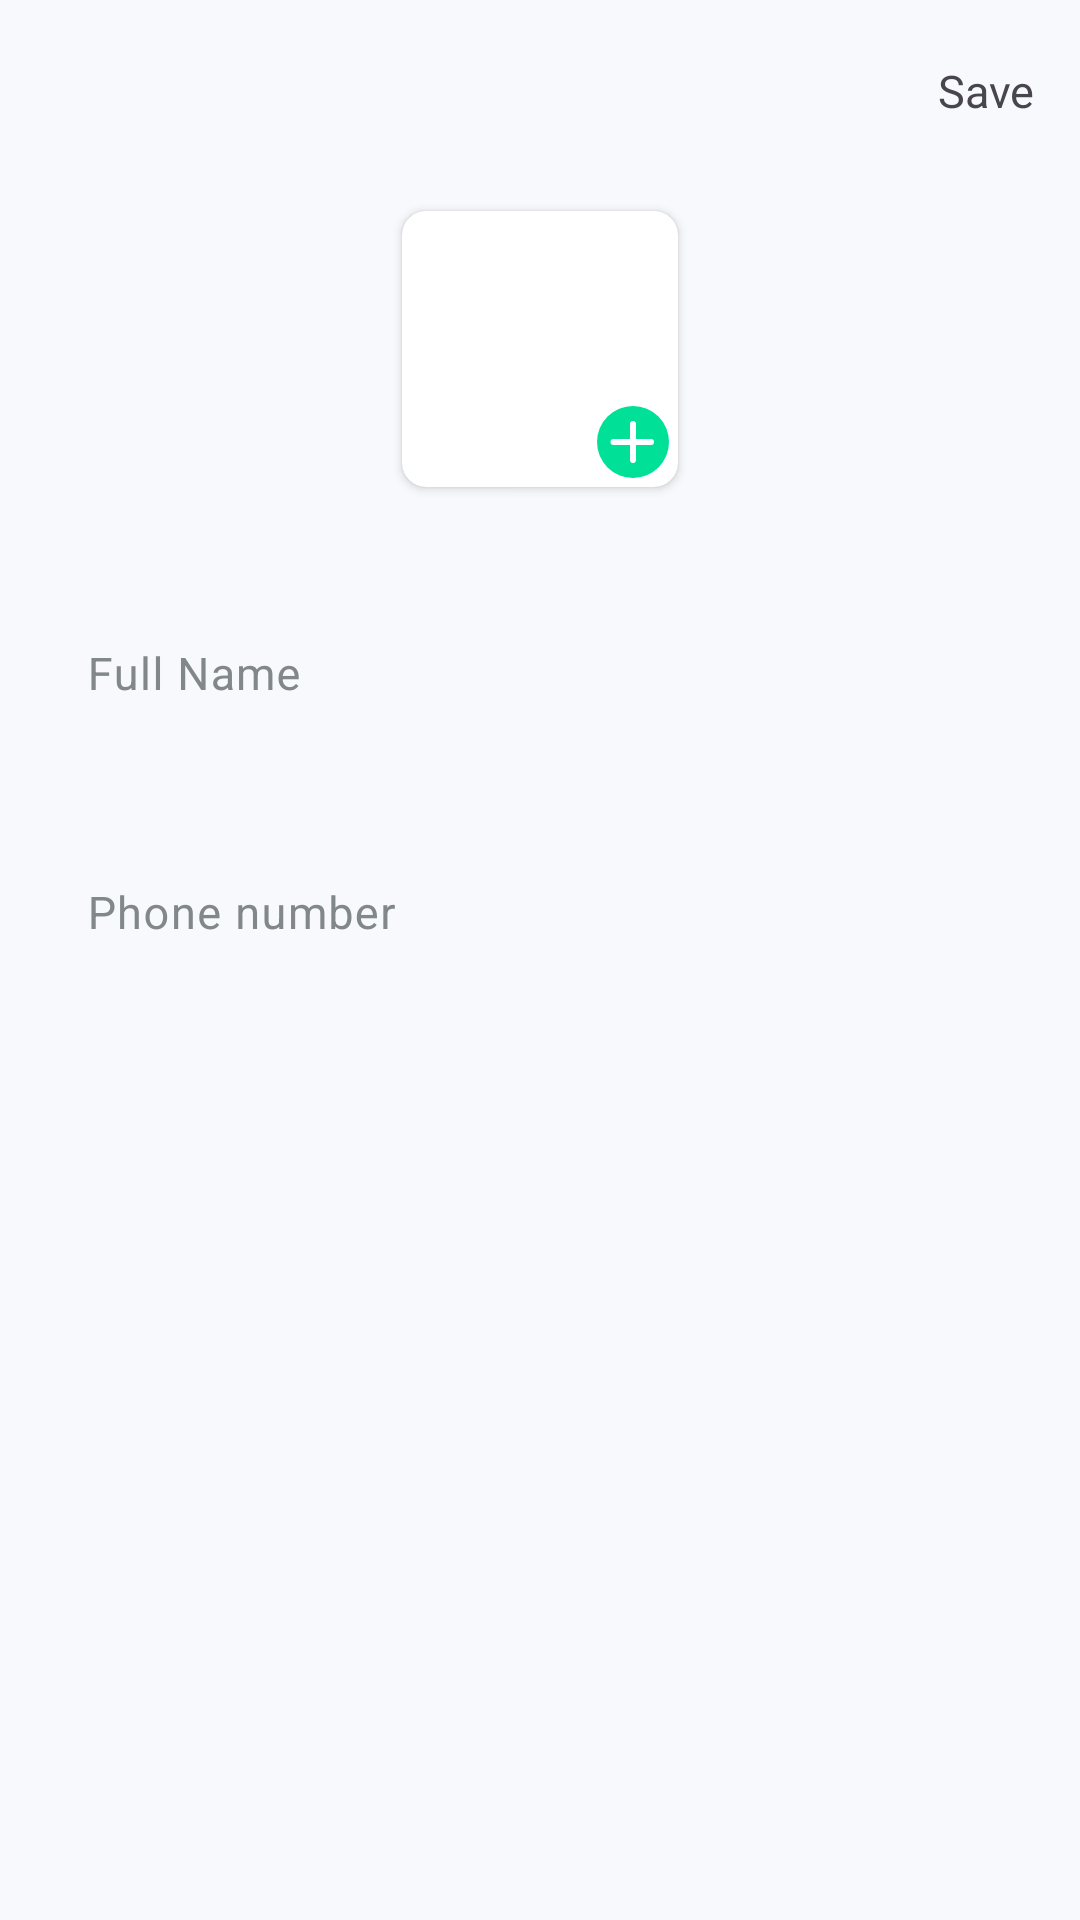

Icons on this 1080px x 1920px Android screen, each with its box as [left=x1, top=y1, right=x2, bottom=y2]:
add: [left=597, top=406, right=669, bottom=478]
